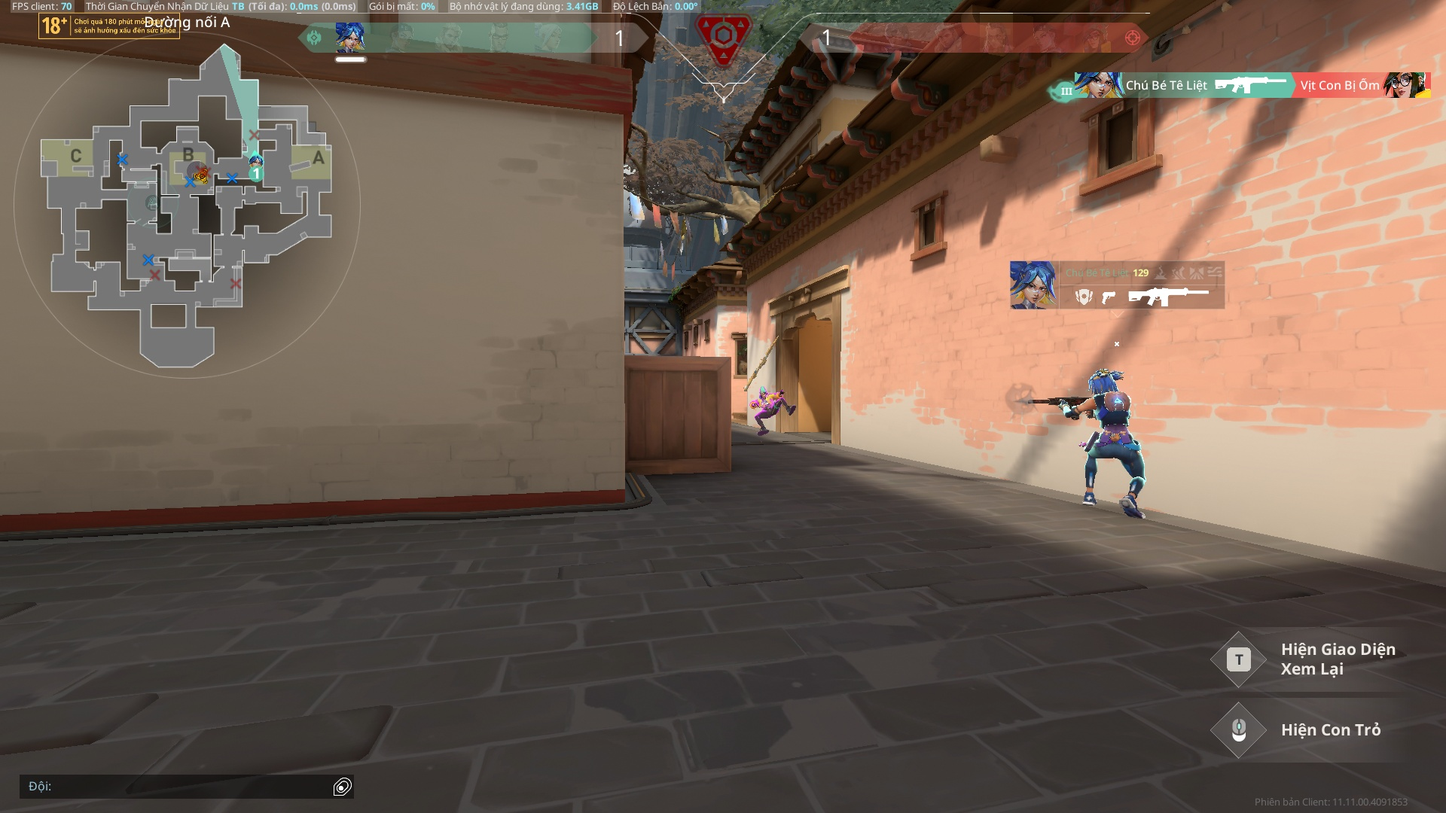body: (756, 395, 776, 407)
head: (759, 391, 767, 398)
